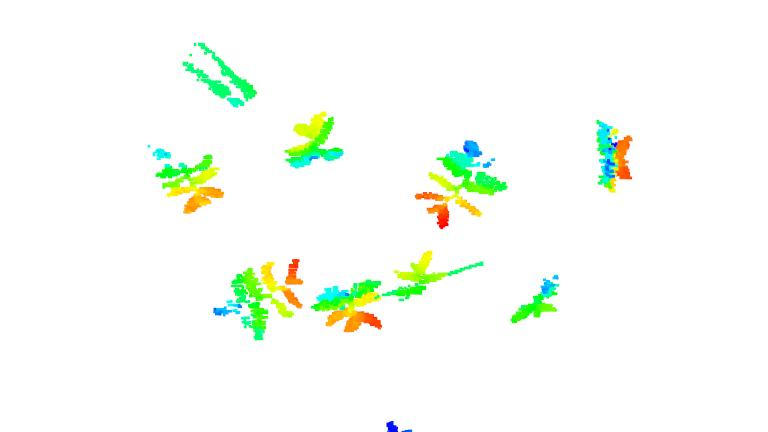chickpea: (415, 140, 509, 229), (212, 260, 307, 344), (148, 143, 226, 214), (312, 277, 386, 336), (280, 111, 345, 171), (382, 249, 449, 306), (507, 271, 569, 326), (590, 120, 635, 193)
